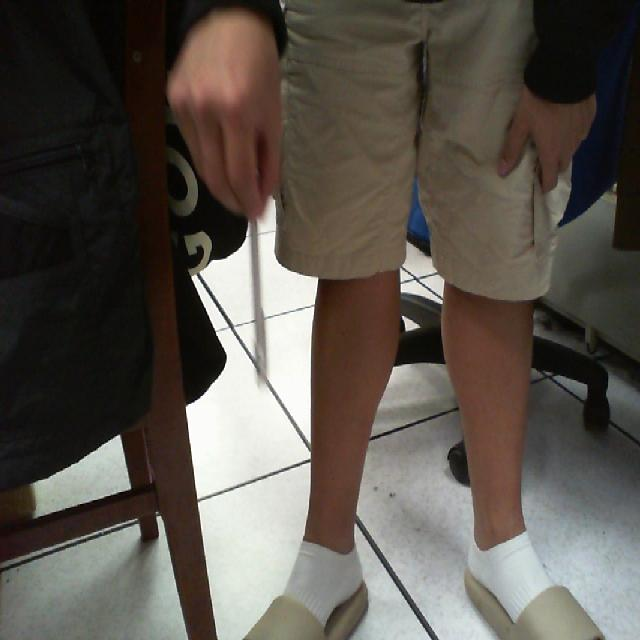Pen: (232, 214, 298, 422)
